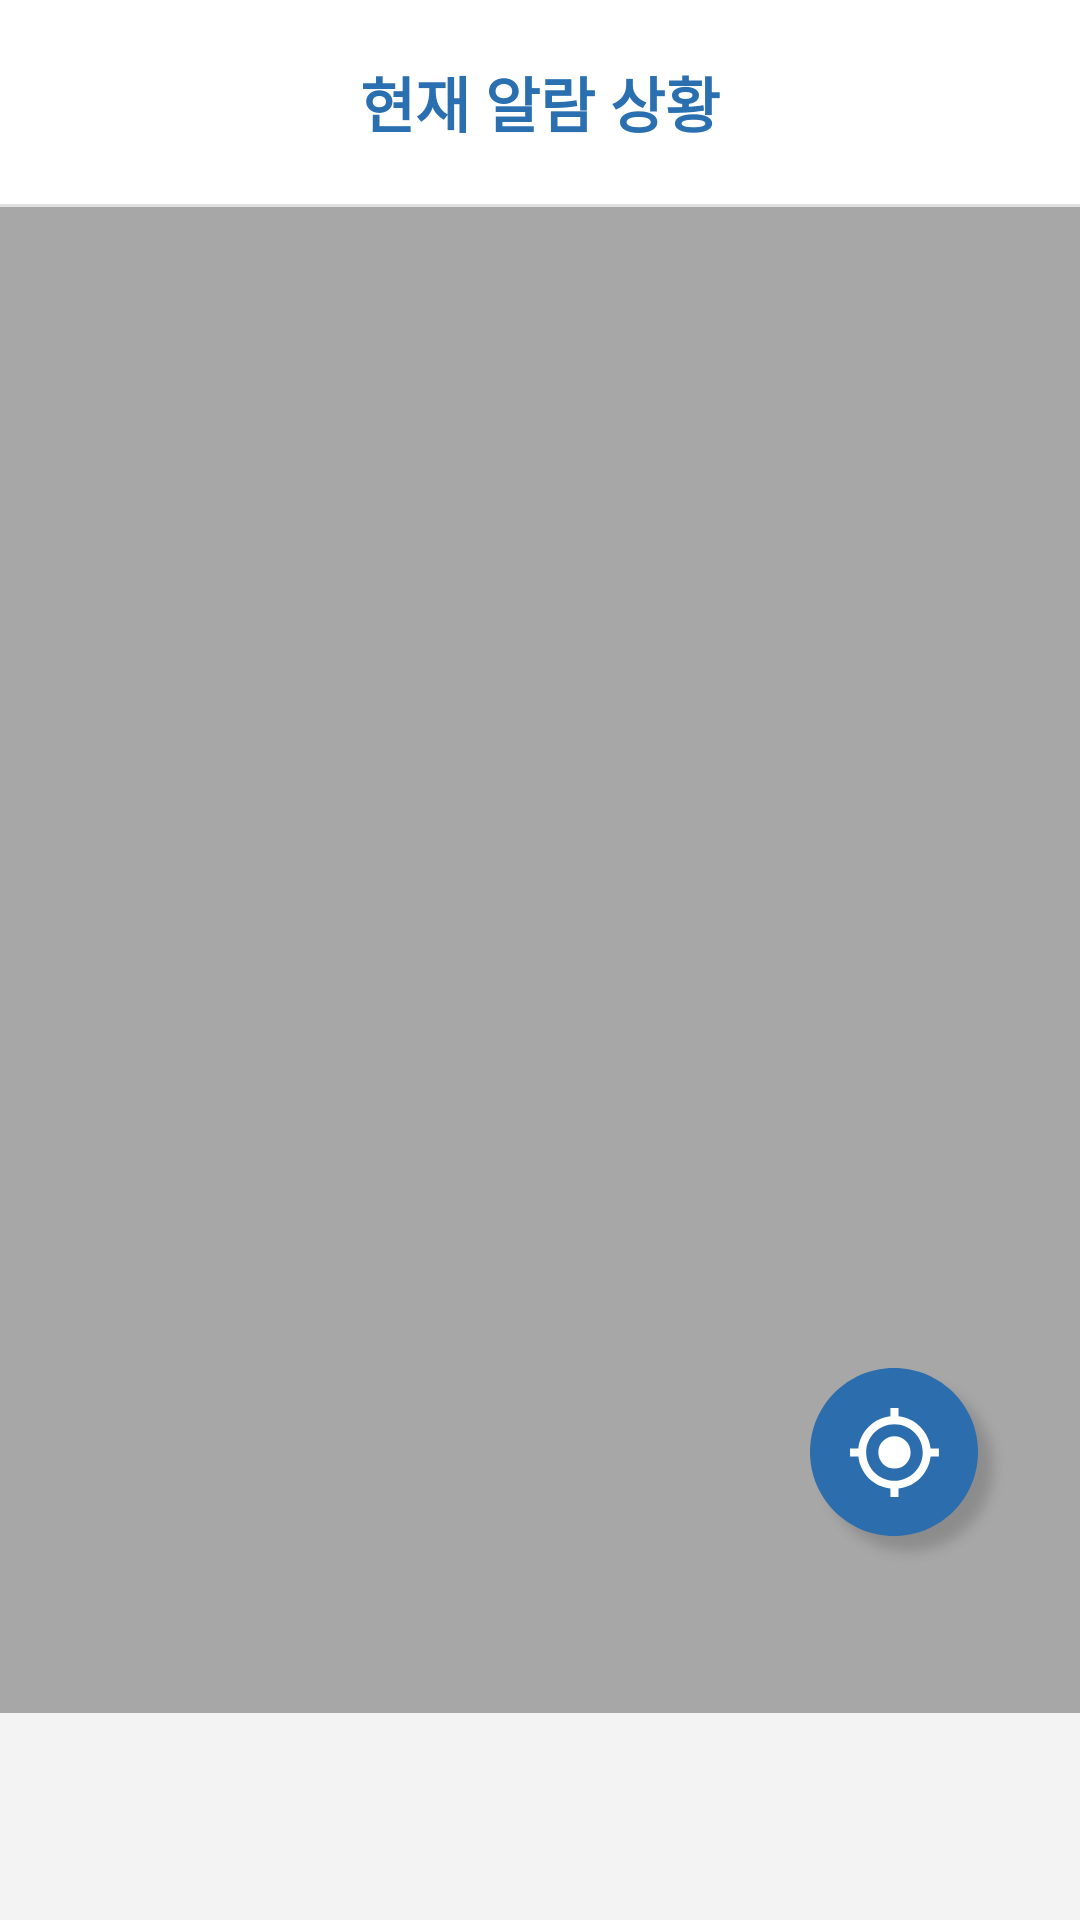

Where to tap for icons on this 1080x1920 app screen, as point (x, y):
set gps: point (897, 1455)
